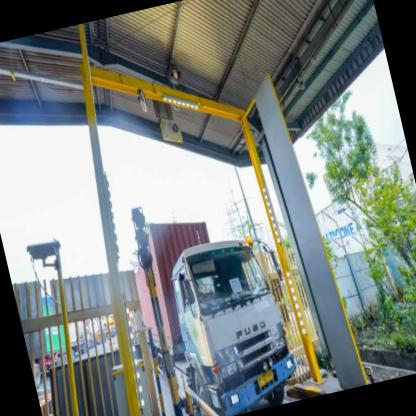truck: (163, 231, 306, 416)
